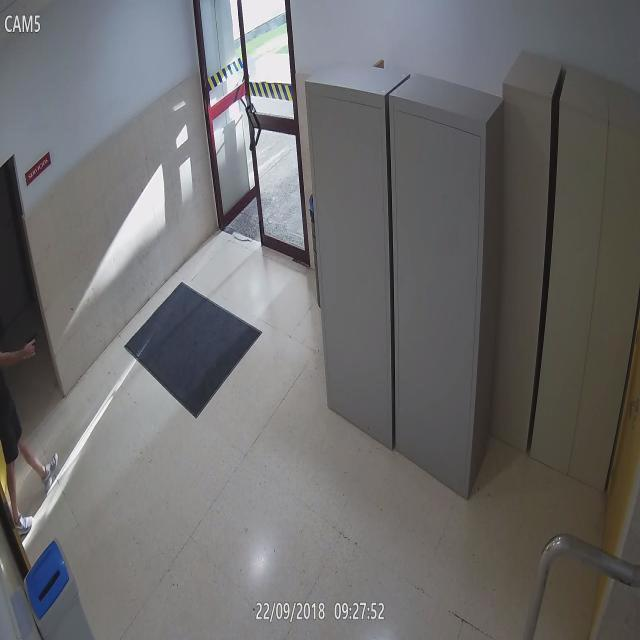weapon: (26, 331, 42, 357)
